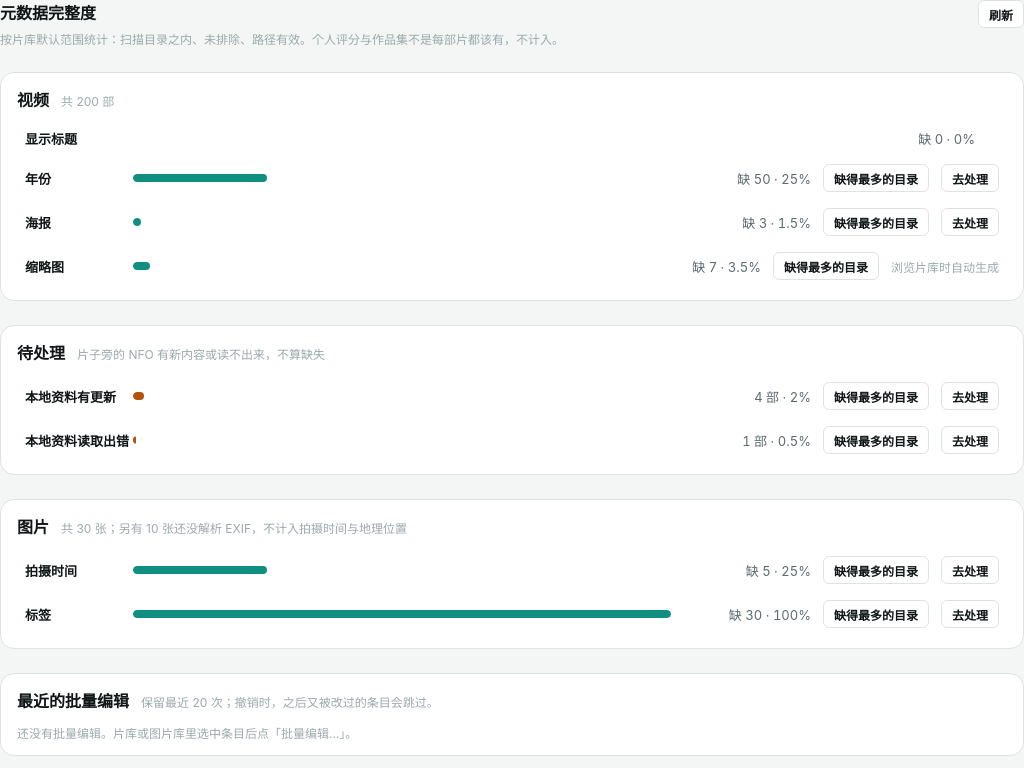
完整度页签（D-MC-02） › 「缺得最多的目录」展开时才取，收起再展开不重复取
The image size is (1024, 768).
What coordinates should you click on to do the following:
click the button with test id "completeness-directories-video-year"
I would click on:
 (876, 178)
Its box is left=823, top=164, right=929, bottom=192.
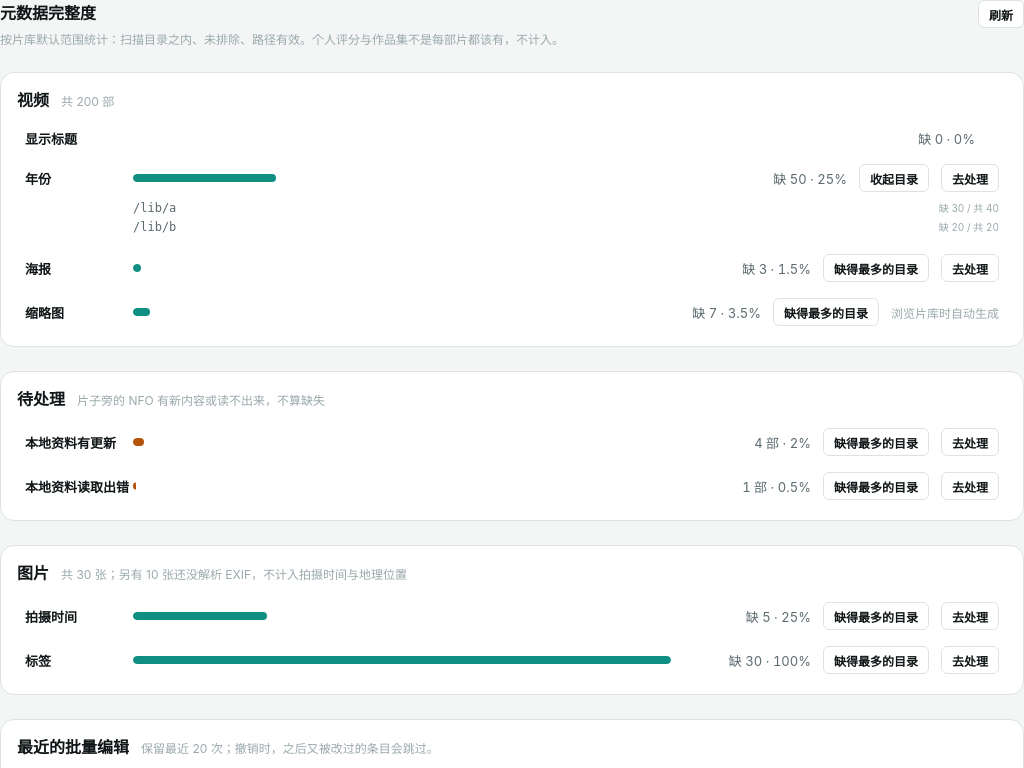
Expected: the elements with test id "completeness-dir-row" read "/lib/a缺 30 / 共 40", "/lib/b缺 20 / 共 20", in this order, left=133, top=200, right=999, bottom=215; left=133, top=219, right=999, bottom=234
What coordinates should you click on to do the following:
click the button with test id "completeness-directories-video-year"
I would click on:
 (894, 178)
Its box is left=859, top=164, right=929, bottom=192.
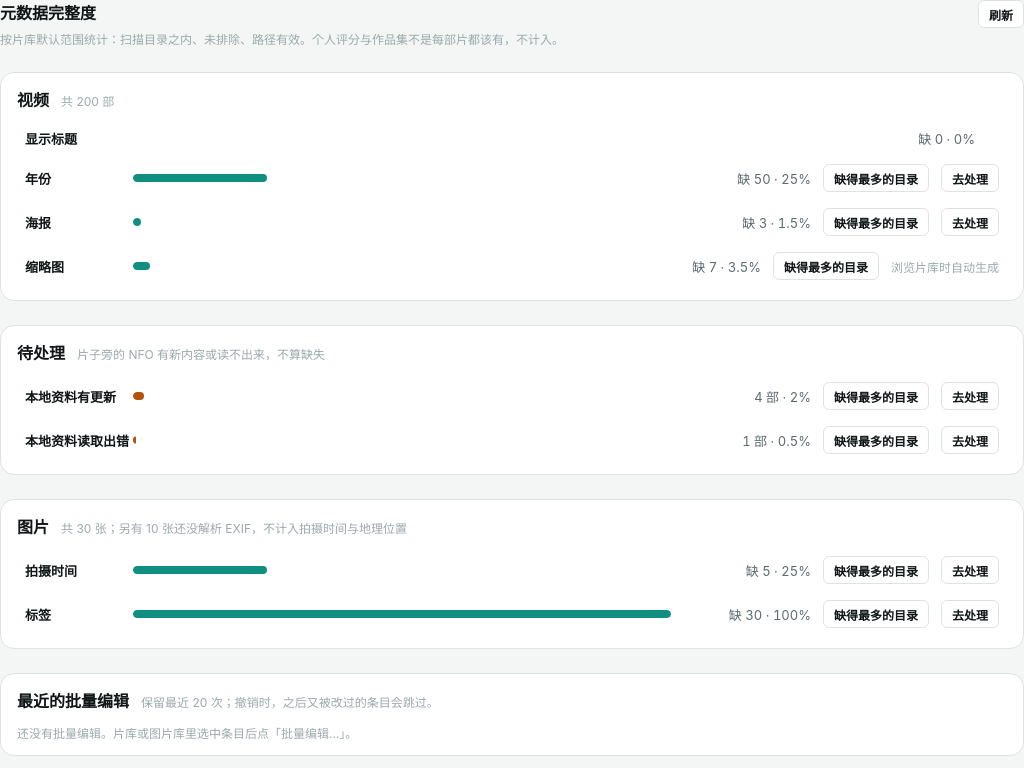
What coordinates should you click on to do the following:
click the button with test id "completeness-directories-video-year"
I would click on:
 (876, 178)
Its box is left=823, top=164, right=929, bottom=192.
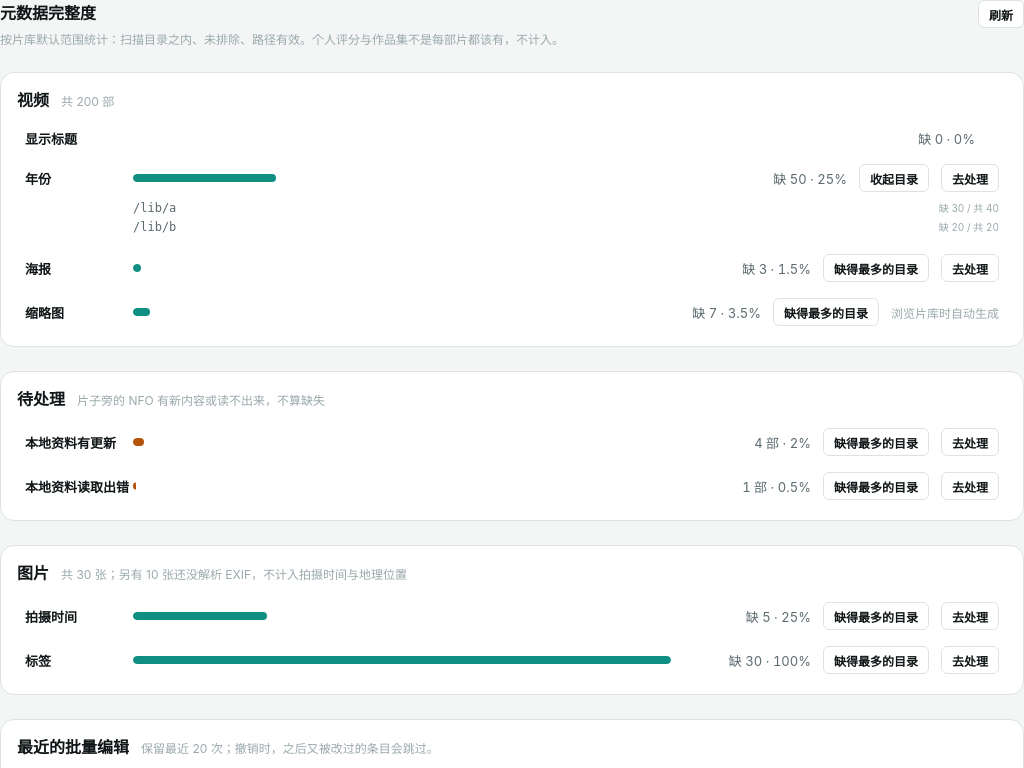
Expected: the element with test id "completeness-dirs-video-year" is shown, left=25, top=198, right=999, bottom=238
